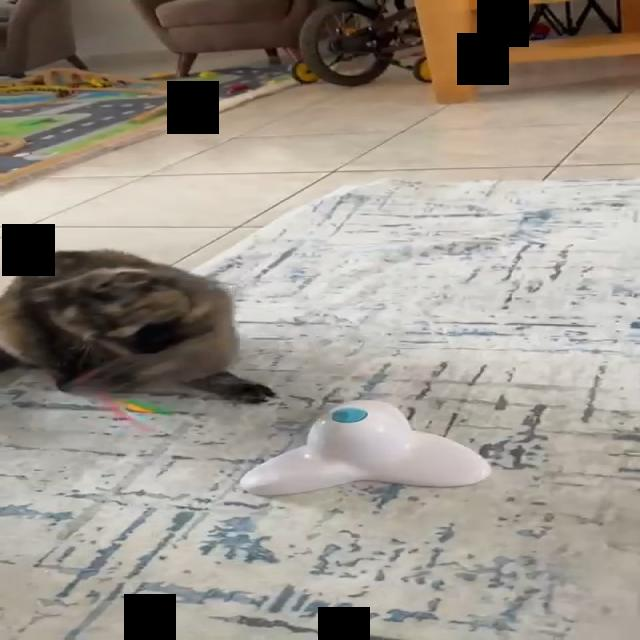authorized: (0, 247, 276, 403)
